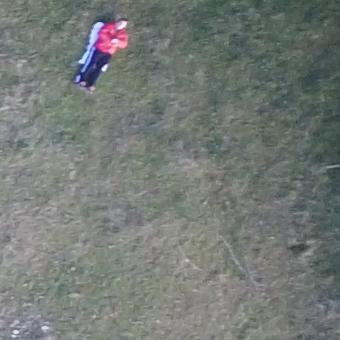human: (75, 15, 133, 93)
